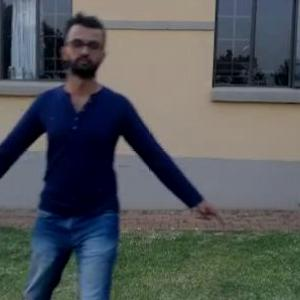land: (1, 45, 204, 299)
